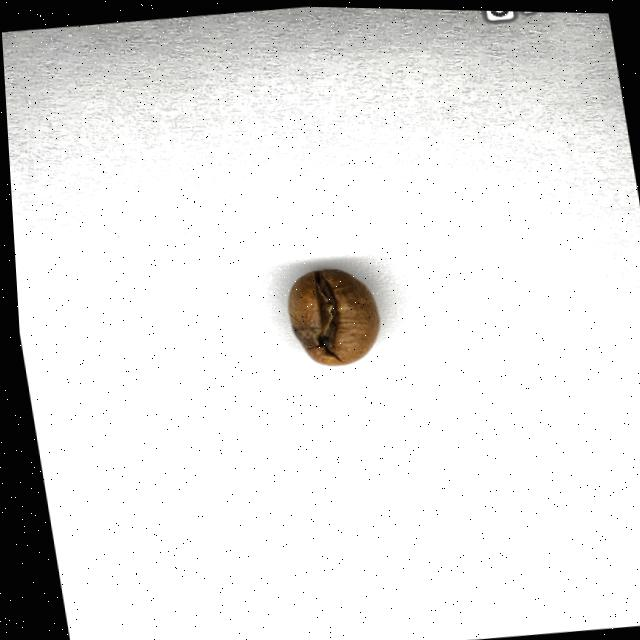Scorched: (279, 263, 382, 367)
